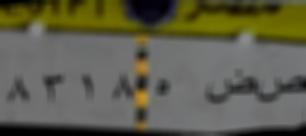1: (81, 70, 97, 109)
3: (41, 70, 67, 106)
8: (2, 71, 35, 109), (107, 70, 134, 110)
daad: (203, 68, 257, 110)
haa: (152, 73, 175, 104)
saad: (259, 65, 306, 110)
